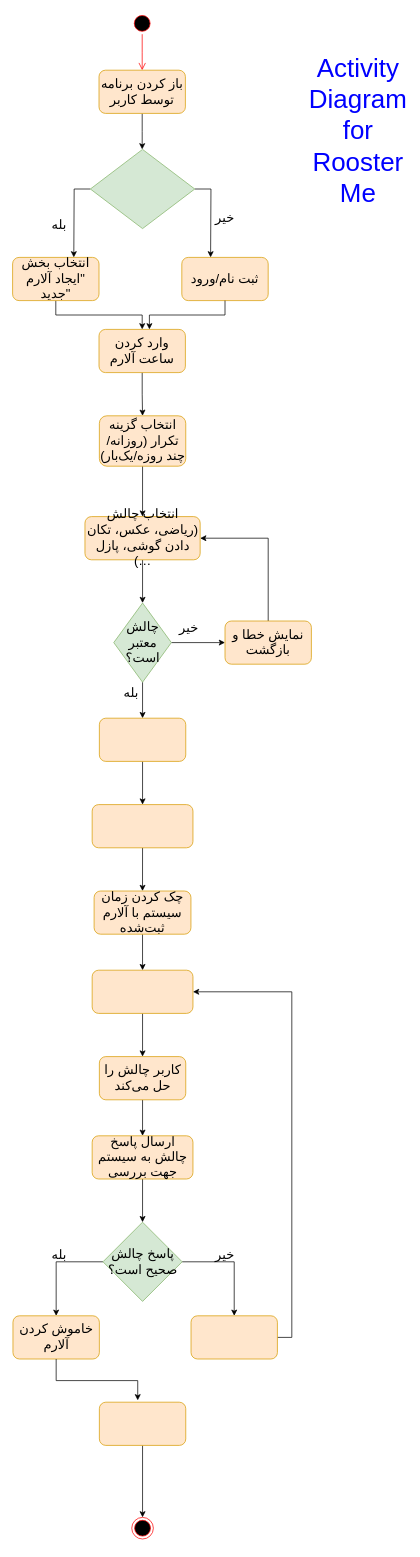
Image size: 420x1557. Some labels were removed from this diagram. Each missing label, with the box of its shape:
ادامه پخش آلارم و درخواست دوباره: (190, 1315, 277, 1359)
ثبت موفقیت چالش در تاریخچه: (99, 1401, 186, 1445)
ذخیره آلارم در سیستم: (99, 717, 186, 761)
سیستم وارد حالت انتظار تا زمان آلارم می‌شود: (91, 804, 193, 848)
فعال شدن آلارم (پخش صدا + نمایش چالش): (91, 969, 193, 1013)
کاربر وارد شده است؟: (90, 149, 195, 229)
